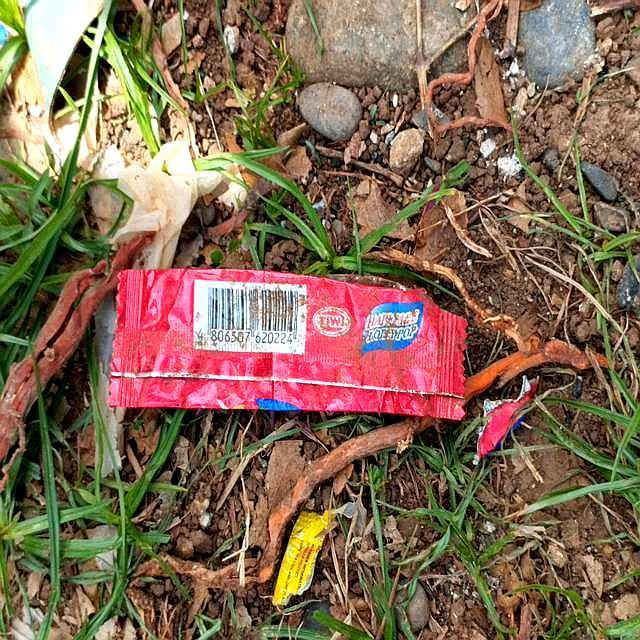Non-biodegradable: (106, 266, 470, 422)
